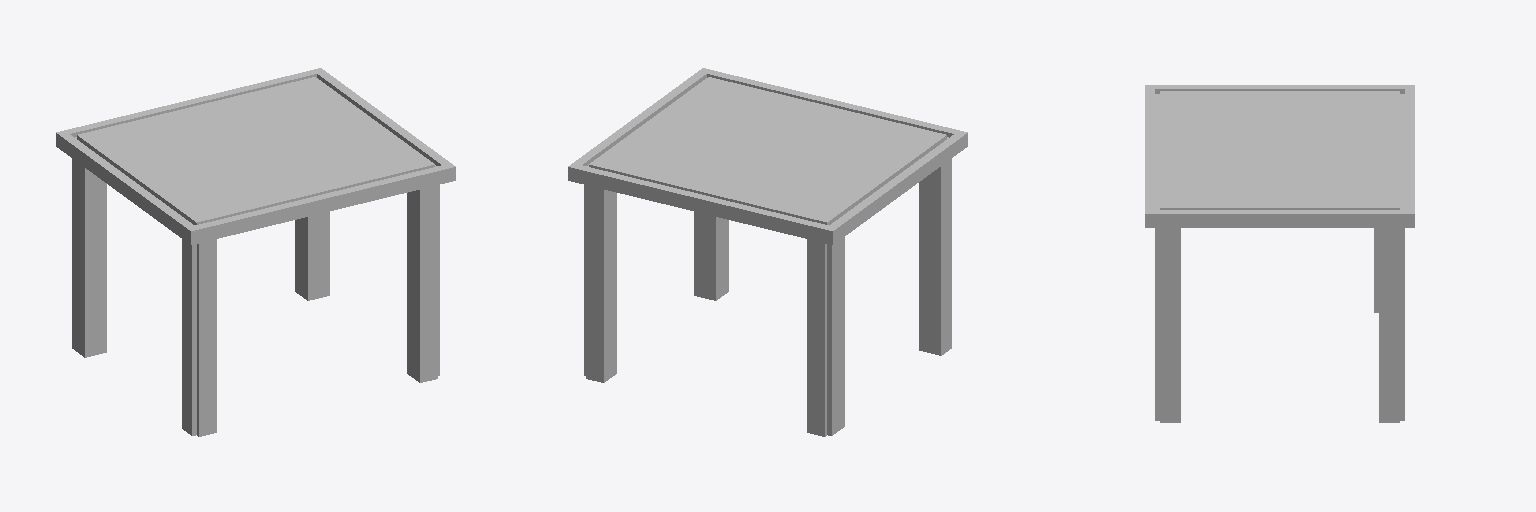
Rendered from KitchenOPEN_Export-16.obj.
The picture shows the model from 3 angles: view 1: azimuth 30°, elevation 25°; view 2: azimuth 150°, elevation 25°; view 3: azimuth 270°, elevation 25°; orthographic projection.
Visible parts, largest first — view 1: KitchenOPEN_Export-16; view 2: KitchenOPEN_Export-16; view 3: KitchenOPEN_Export-16.
Part boxes in pixels (bbox=[...]): KitchenOPEN_Export-16: bbox=[56, 68, 455, 436]; KitchenOPEN_Export-16: bbox=[568, 68, 967, 436]; KitchenOPEN_Export-16: bbox=[1145, 85, 1414, 422].
Size of the model in its own units: 60 by 46 by 53.